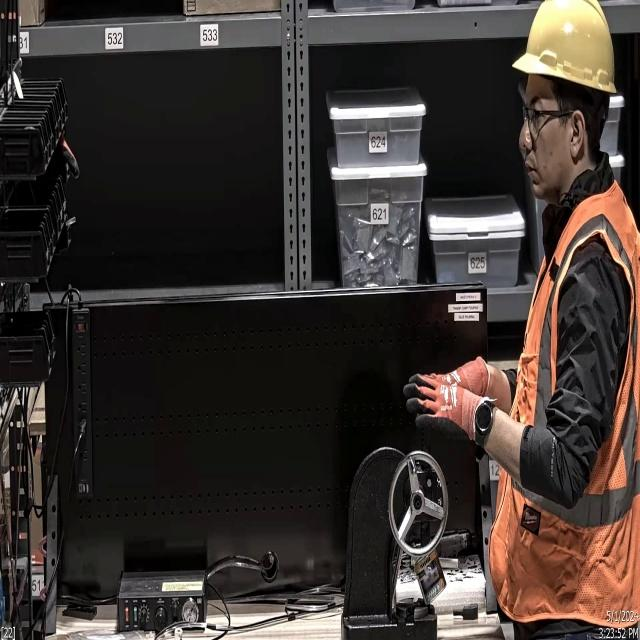gloves: (402, 372, 498, 449)
